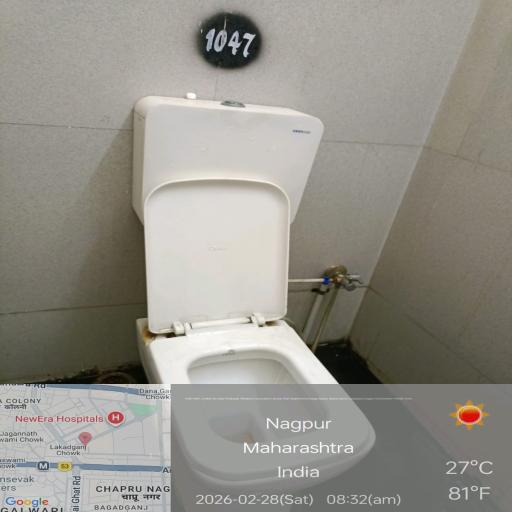clean_floor: (304, 0, 512, 347), (0, 4, 149, 362)
clean_western: (134, 185, 348, 381)
